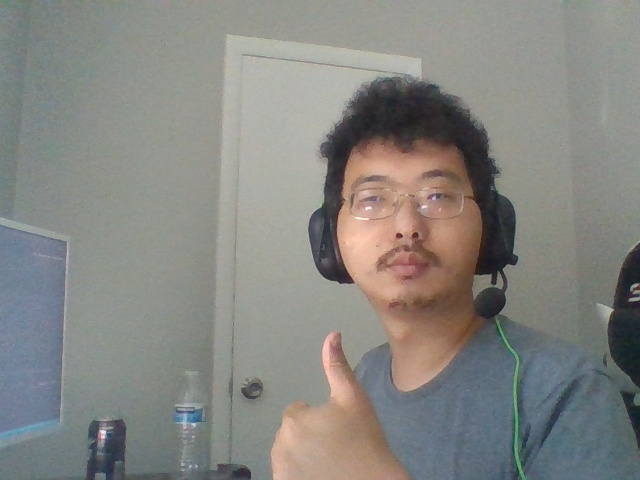ThumbsUp: (270, 330, 410, 479)
